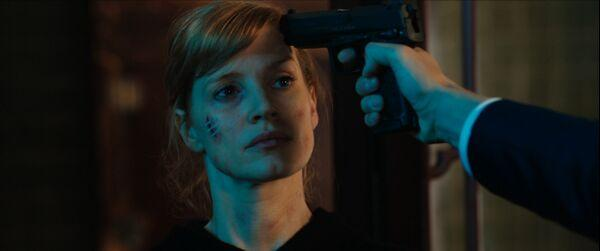Gun: (282, 3, 423, 140)
